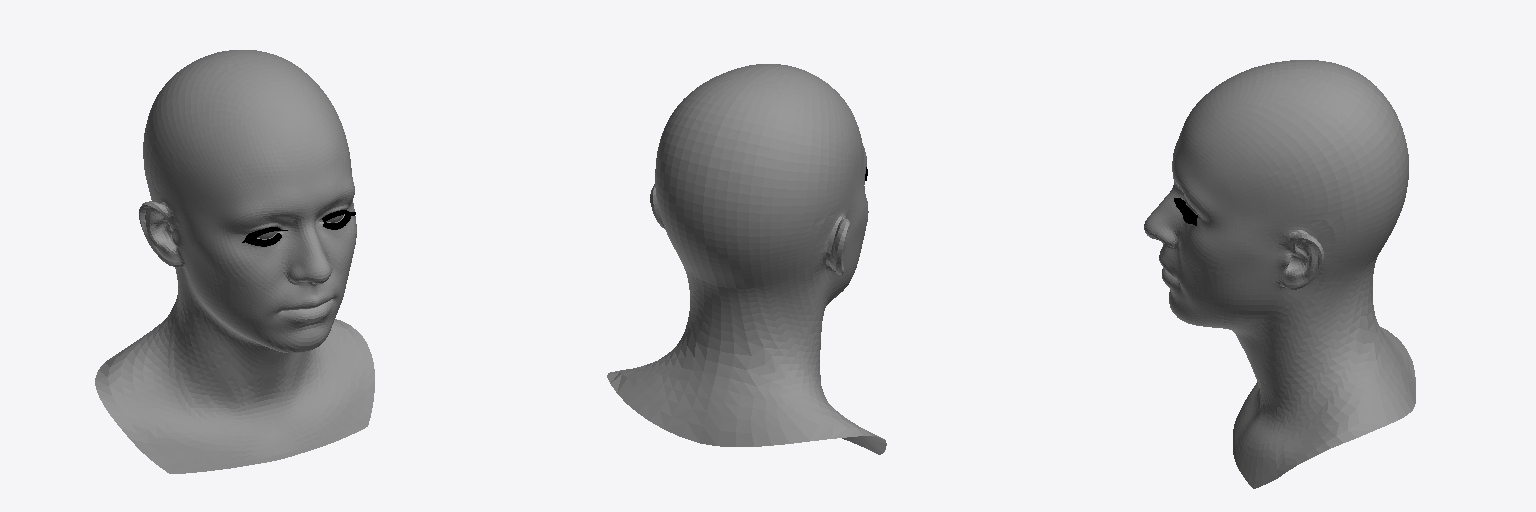
The model's file is identity053.obj.
3 renders of one model, left to right at view 1: azimuth 30°, elevation 25°; view 2: azimuth 150°, elevation 25°; view 3: azimuth 270°, elevation 25°, orthographic.
Size of the model in its own units: 24.83 by 33.81 by 22.32.